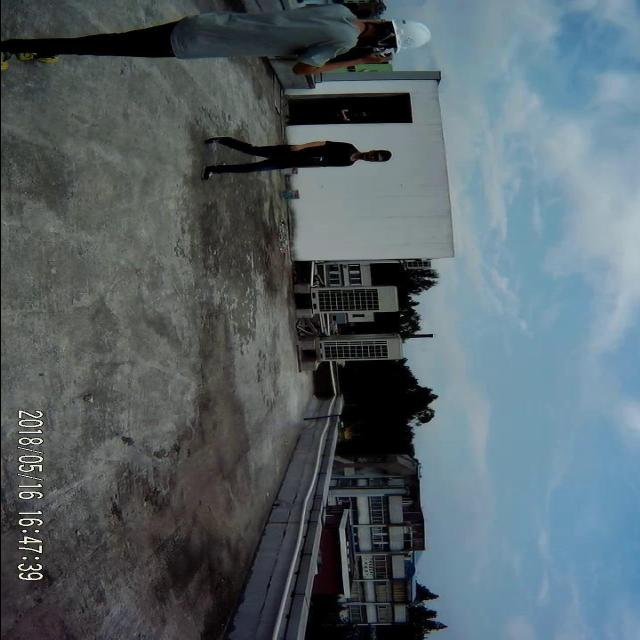helmet: (380, 12, 440, 56)
